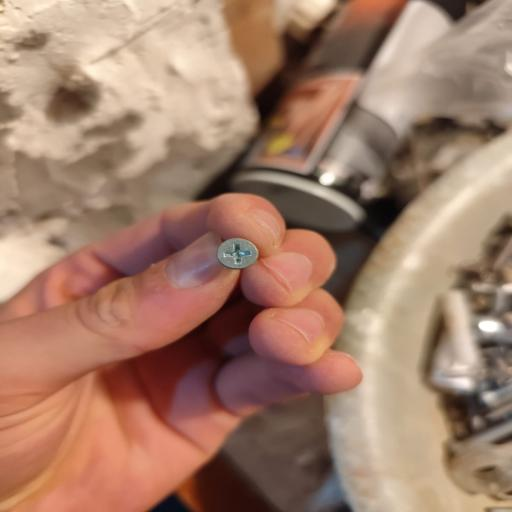Phillips: (212, 228, 259, 278)
